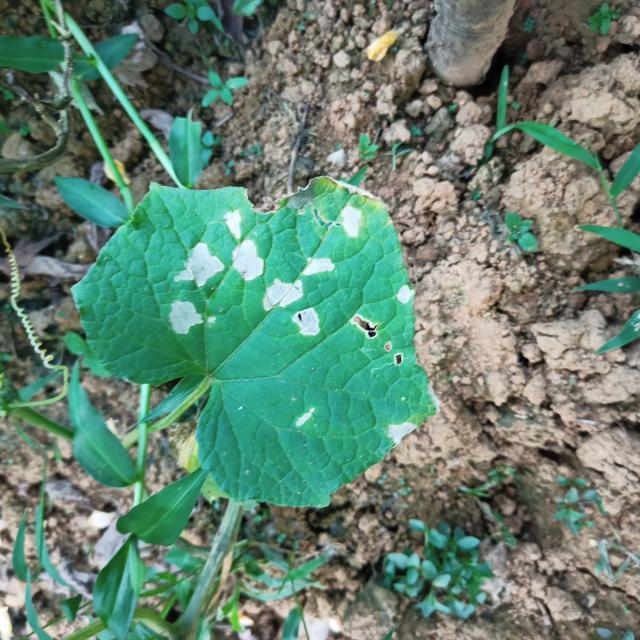disease_cucumber: (262, 278, 320, 336), (222, 209, 266, 284), (350, 312, 405, 370), (172, 242, 225, 288), (168, 299, 217, 336), (386, 419, 417, 446), (339, 203, 362, 239), (301, 255, 336, 278), (292, 407, 318, 432), (395, 284, 414, 305)
